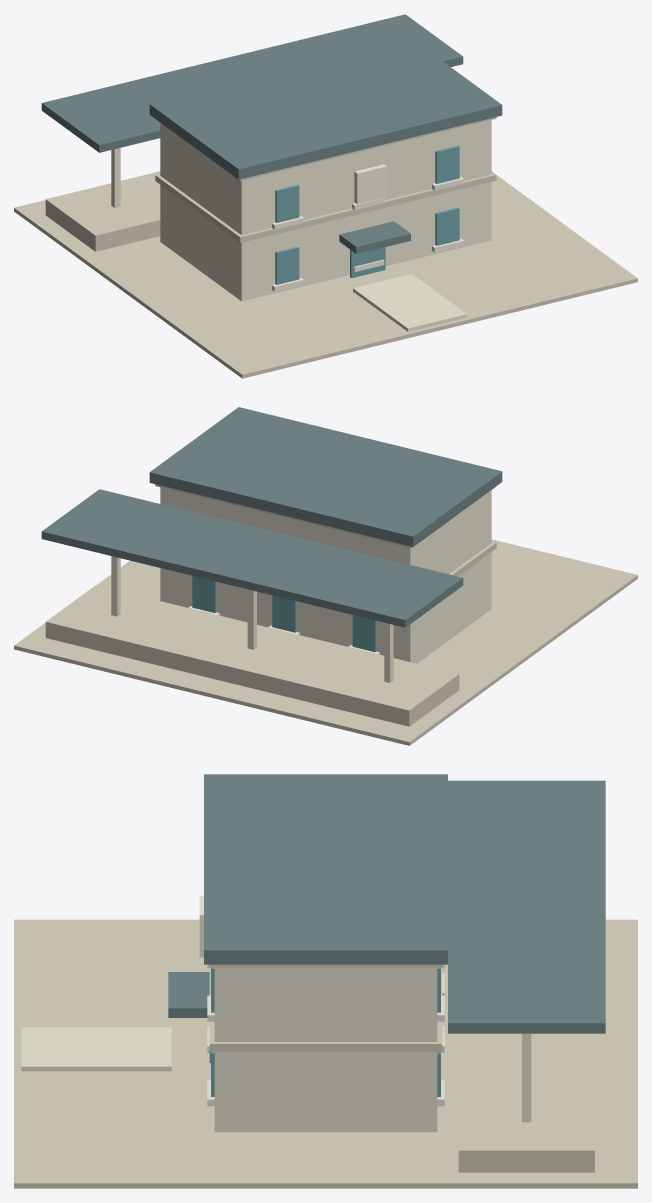
The model's file is civic_station.glb.
The picture shows the model from 3 angles, top to bottom: view 1: azimuth 30°, elevation 25°; view 2: azimuth 150°, elevation 25°; view 3: azimuth 270°, elevation 25°; orthographic projection. The views are drawn at different scales.
Parts seen in each view (by area): view 1: Paved civic lot.007, Masonry shell.007, Copper roof.007, Platform canopy, Platform, Front path.007, Limestone course.013, Entrance canopy.007, Station clock, Recessed glazing.084, Recessed glazing.078, Recessed glazing.082 (+4 smaller); view 2: Copper roof.007, Paved civic lot.007, Platform, Platform canopy, Masonry shell.007, Recessed glazing.081, Recessed glazing.079, Recessed glazing.083, Limestone course.014, Canopy column.002, Canopy column.001, Canopy column; view 3: Paved civic lot.007, Copper roof.007, Platform canopy, Masonry shell.007, Platform, Front path.007, Limestone course.013, Entrance canopy.007, Limestone course.014, Canopy column.002.
Boxes of the visible parts, box(x1,y1,x2,y2) form: Paved civic lot.007: box(14, 175, 637, 378); Masonry shell.007: box(160, 120, 491, 301); Copper roof.007: box(149, 40, 502, 179); Platform canopy: box(41, 14, 463, 152); Platform: box(45, 171, 160, 251); Front path.007: box(353, 274, 466, 331); Limestone course.013: box(155, 171, 496, 242); Entrance canopy.007: box(339, 221, 410, 253); Station clock: box(354, 164, 386, 204); Recessed glazing.084: box(275, 184, 299, 222); Recessed glazing.078: box(275, 246, 299, 284); Recessed glazing.082: box(435, 207, 459, 245); Copper roof.007: box(149, 407, 502, 546); Paved civic lot.007: box(14, 539, 637, 745); Platform: box(45, 585, 459, 726); Platform canopy: box(41, 489, 463, 627); Masonry shell.007: box(160, 487, 491, 663); Recessed glazing.081: box(272, 595, 296, 632); Recessed glazing.079: box(352, 615, 376, 651); Recessed glazing.083: box(192, 576, 216, 612); Limestone course.014: box(155, 484, 494, 548); Canopy column.002: box(111, 556, 120, 616); Canopy column.001: box(247, 589, 256, 649); Canopy column: box(384, 622, 393, 682); Paved civic lot.007: box(14, 919, 637, 1188); Copper roof.007: box(204, 774, 447, 964); Platform canopy: box(448, 780, 605, 1033); Masonry shell.007: box(214, 967, 437, 1132); Platform: box(458, 1033, 594, 1172); Front path.007: box(21, 1027, 171, 1071); Limestone course.013: box(209, 968, 442, 1051); Entrance canopy.007: box(168, 972, 209, 1017); Limestone course.014: box(209, 964, 442, 967); Canopy column.002: box(522, 1033, 531, 1122).
Bounding box in the file's own units: 8.7 × 2.99 × 8.7.
